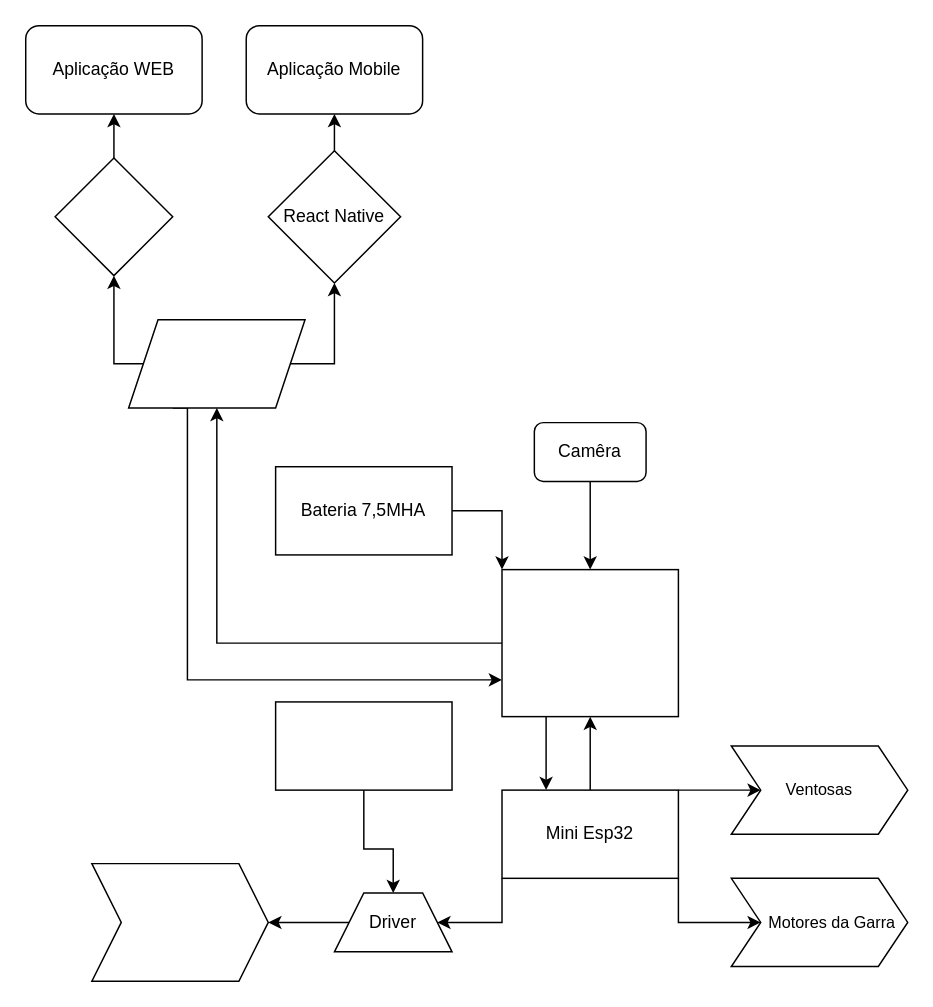
Image size: 933x1007. Some labels were removed from this diagram. The box of each missing label's shape, as (x1, y1, x2, y2) in pixels:
API (Flask): (127, 318, 305, 408)
Bateria 5MHA: (274, 700, 452, 790)
Motores de Passo: (90, 862, 268, 981)
RaspBerry (processamento central): (501, 568, 678, 717)
React: (54, 157, 173, 276)
